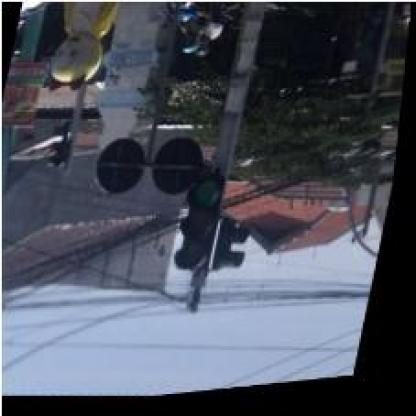green: (176, 176, 231, 277)
